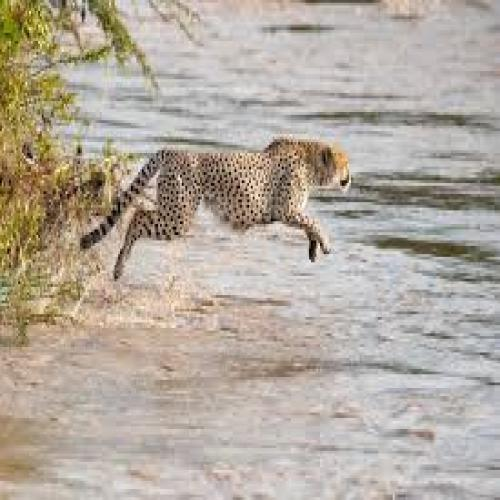cheetah-endangered: (77, 136, 355, 286)
